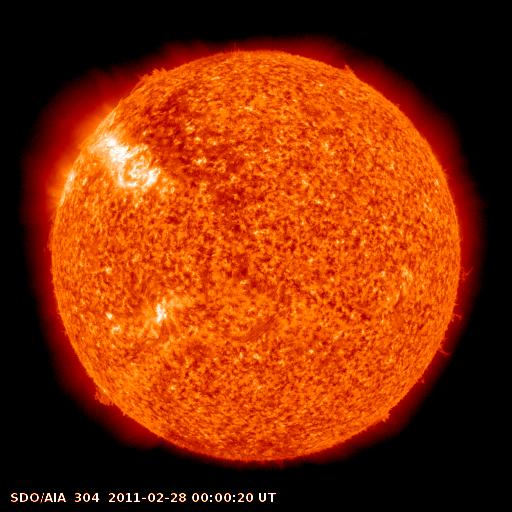prominence: (115, 59, 179, 101), (431, 299, 467, 365), (83, 381, 123, 420), (449, 255, 485, 289)
